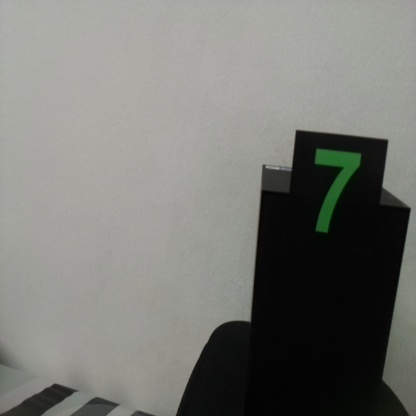id_7: (296, 130, 381, 277)
